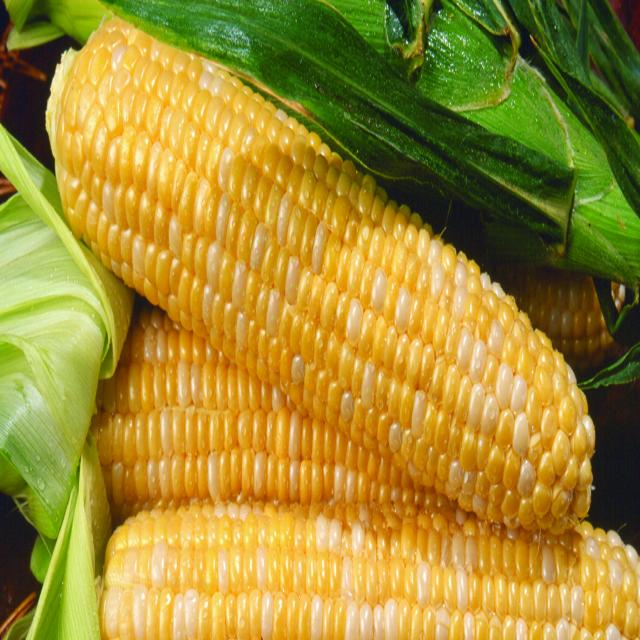corn: (46, 16, 602, 540), (80, 274, 473, 532), (94, 488, 639, 640)
